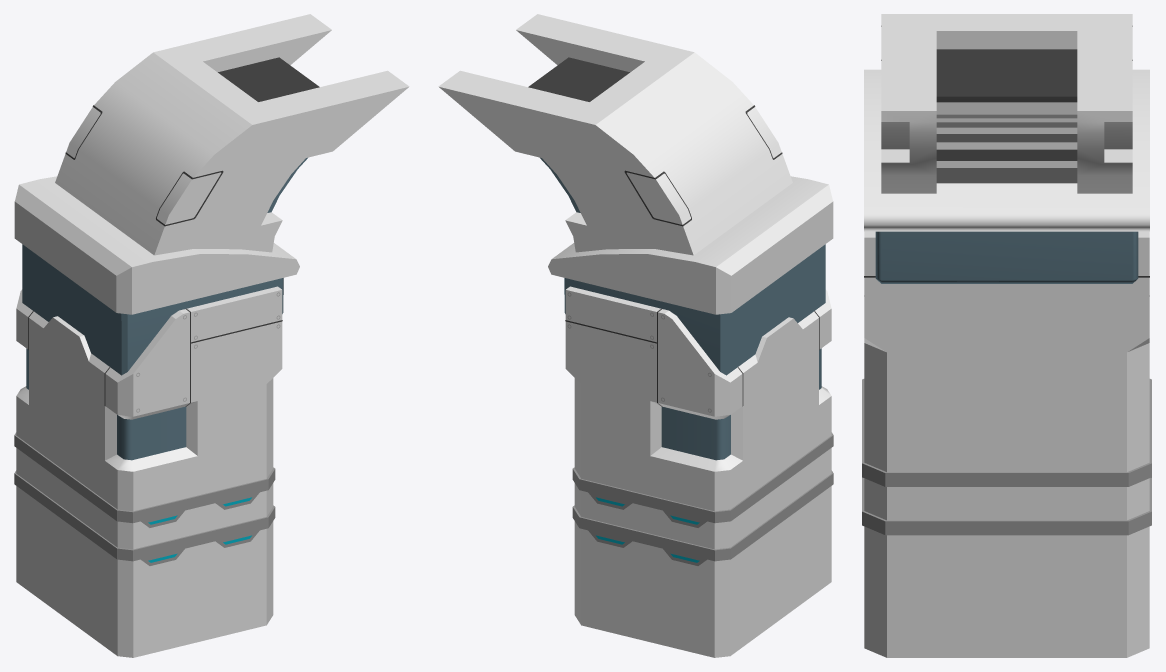
Rendered from space_station_003.fbx.
The picture shows the model from 3 angles, left to right: view 1: azimuth 30°, elevation 25°; view 2: azimuth 150°, elevation 25°; view 3: azimuth 270°, elevation 25°; orthographic projection. The views are drawn at different scales.
Visible parts, largest first — view 1: space_station_003; view 2: space_station_003; view 3: space_station_003.
Part boxes in pixels (x1,y1,x2,y2): space_station_003: (14,14,409,657); space_station_003: (438,14,833,657); space_station_003: (862,14,1151,657).
Bounding box in the file's own units: 1517 × 1022 × 2449.
